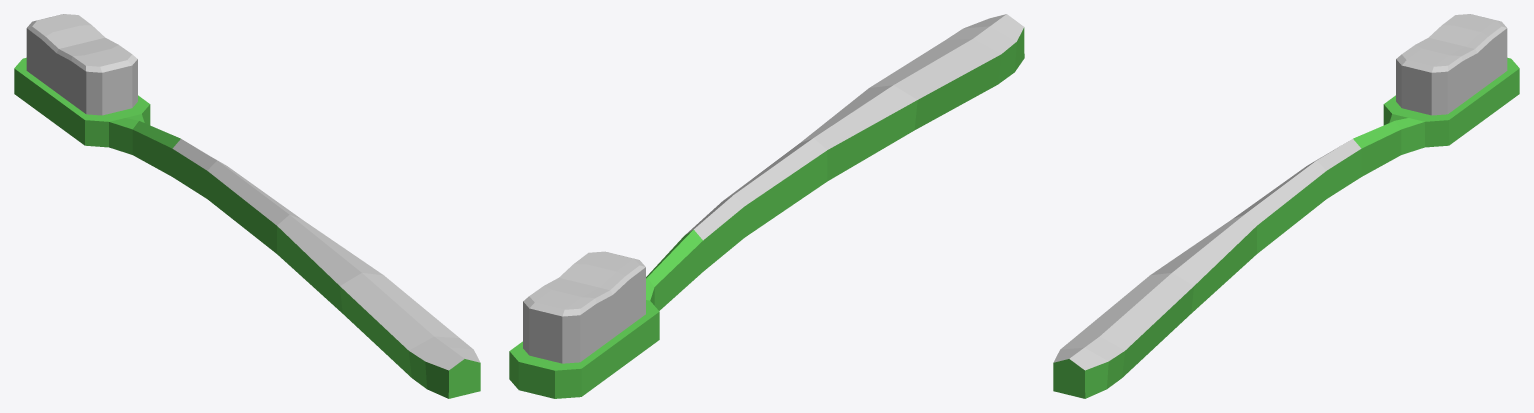
File: 002. Prop Toothbrush.fbx
3 renders of one model, left to right at view 1: azimuth 30°, elevation 25°; view 2: azimuth 150°, elevation 25°; view 3: azimuth 330°, elevation 25°, orthographic. The views are drawn at different scales.
Parts seen in each view (by area): view 1: Cube; view 2: Cube; view 3: Cube.
Part boxes in pixels (x1,y1,x2,y2): Cube: [14, 14, 480, 398]; Cube: [509, 14, 1024, 398]; Cube: [1053, 14, 1519, 398].
Bounding box in the file's own units: 16.63 × 18.18 × 188.
